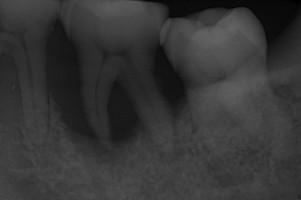Dental Caries: (67, 81, 143, 173)
Furcation Involvement: (210, 145, 259, 187)
